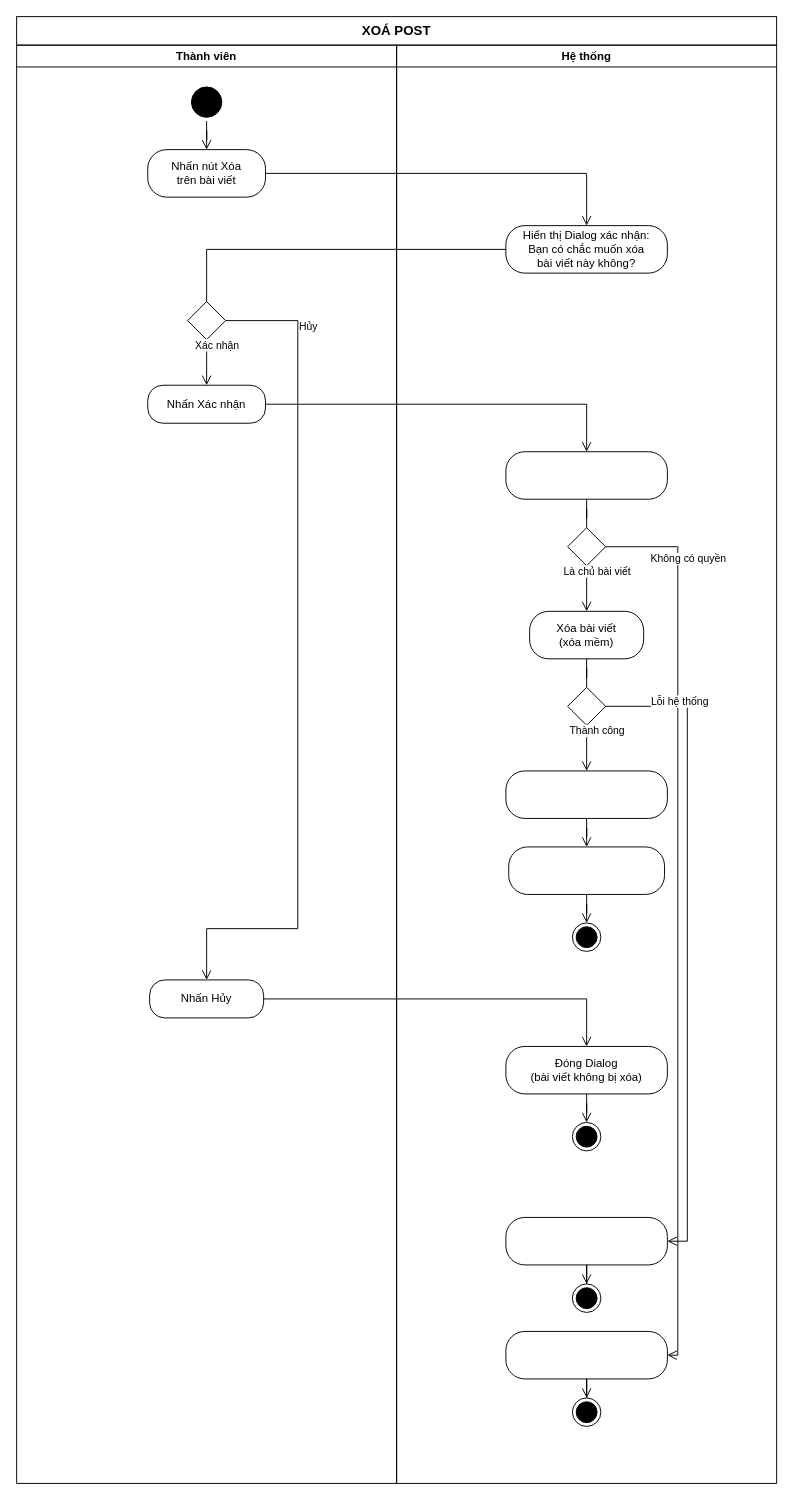
The diagram is 793 pixels wide and 1500 high, and some of its shapes have lost their labels. Here are the shapes that lost their labels. From the top down, the centre of each, then its label:
At pixel 586 475: "Kiểm tra quyền sở hữu bài viết".
At pixel 586 794: "Hiển thị toast: Bài viết đã được xóa".
At pixel 586 870: "Danh sách bài viết tự làm mới".
At pixel 586 1240: "Hiển thị toast: Không thể xóa bài viết.".
At pixel 586 1354: "Hiển thị toast: Bạn không có quyền xóa bài viết này".
